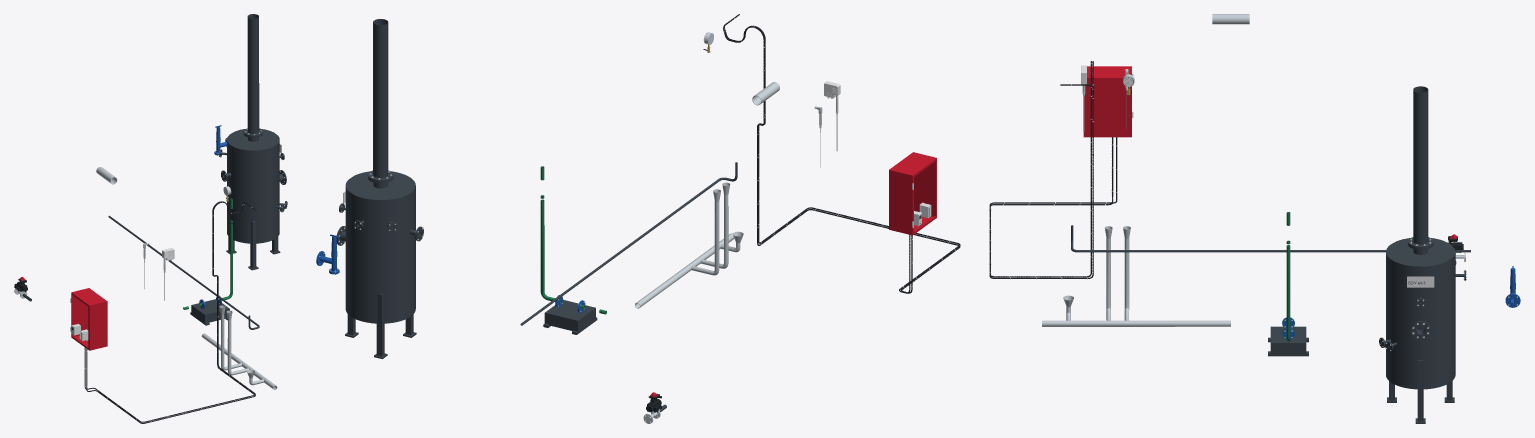
Rendered from s4000-3-BvBYh0dR.glb.
3 renders of one model, left to right at view 1: azimuth 30°, elevation 25°; view 2: azimuth 150°, elevation 25°; view 3: azimuth 270°, elevation 25°, orthographic. The views are drawn at different scales.
Visible parts, largest first — view 1: separator_bdv60_5 / dark, control_cabinet / control_cabinet_0.npz, bdv_vent / dark, local_open_drains / steel, wiring_pressure_switch_2 / black, wiring_pressure_switch_1 / black, pump_branch_2 / dark, tds_common / dark, pump_branch_2 / green; view 2: separator_bdv60_5 / dark, control_cabinet / control_cabinet_0.npz, bdv_vent / dark, local_open_drains / steel, pump_branch_2 / dark, wiring_pressure_switch_1 / black, wiring_pressure_switch_2 / black, tds_common / dark, pump_branch_2 / green; view 3: separator_bdv60_5 / dark, control_cabinet / control_cabinet_0.npz, bdv_vent / dark, local_open_drains / steel, wiring_pressure_switch_2 / black, tds_common / dark, pump_branch_2 / dark, wiring_pressure_switch_1 / black, pump_branch_2 / green.
Part boxes in pixels (left/top/right/bottom): separator_bdv60_5 / dark: left=219, top=129, right=287, bottom=270; control_cabinet / control_cabinet_0.npz: left=70, top=288, right=107, bottom=350; bdv_vent / dark: left=243, top=14, right=262, bottom=136; local_open_drains / steel: left=201, top=305, right=277, bottom=389; wiring_pressure_switch_2 / black: left=84, top=202, right=255, bottom=422; wiring_pressure_switch_1 / black: left=86, top=201, right=256, bottom=423; pump_branch_2 / dark: left=190, top=299, right=229, bottom=325; tds_common / dark: left=108, top=215, right=259, bottom=329; pump_branch_2 / green: left=183, top=198, right=232, bottom=309; separator_bdv60_5 / dark: left=336, top=171, right=423, bottom=358; control_cabinet / control_cabinet_0.npz: left=889, top=152, right=936, bottom=235; bdv_vent / dark: left=367, top=19, right=393, bottom=181; local_open_drains / steel: left=635, top=182, right=743, bottom=308; pump_branch_2 / dark: left=543, top=300, right=597, bottom=334; wiring_pressure_switch_1 / black: left=723, top=14, right=960, bottom=293; wiring_pressure_switch_2 / black: left=724, top=22, right=960, bottom=293; tds_common / dark: left=520, top=162, right=737, bottom=325; pump_branch_2 / green: left=540, top=166, right=606, bottom=314; separator_bdv60_5 / dark: left=1379, top=238, right=1465, bottom=423; control_cabinet / control_cabinet_0.npz: left=1083, top=66, right=1133, bottom=137; bdv_vent / dark: left=1407, top=86, right=1433, bottom=248; local_open_drains / steel: left=1042, top=226, right=1230, bottom=326; wiring_pressure_switch_2 / black: left=989, top=61, right=1117, bottom=277; tds_common / dark: left=1071, top=225, right=1470, bottom=252; pump_branch_2 / dark: left=1268, top=326, right=1308, bottom=356; wiring_pressure_switch_1 / black: left=989, top=61, right=1113, bottom=278; pump_branch_2 / green: left=1286, top=212, right=1290, bottom=341.
Size of the model in its own units: 5.42 by 3.85 by 5.82.
